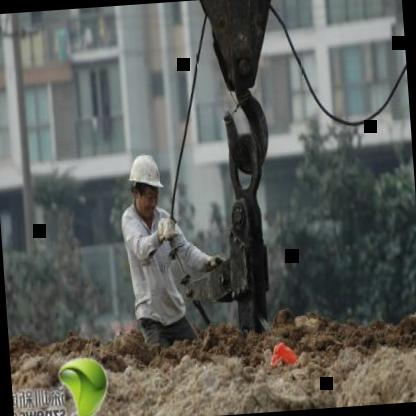helmet: (124, 150, 167, 221)
